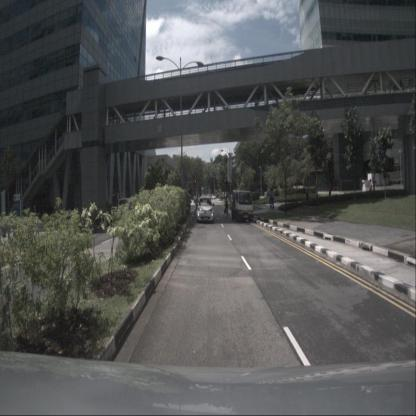human-pedestrian-adult: (222, 197, 230, 218), (194, 194, 199, 215), (304, 184, 310, 201), (372, 177, 376, 196), (271, 188, 274, 209), (269, 188, 272, 209), (369, 178, 372, 196)
vehicle-car: (197, 196, 214, 224)
vehicle-truck: (231, 190, 253, 224)
